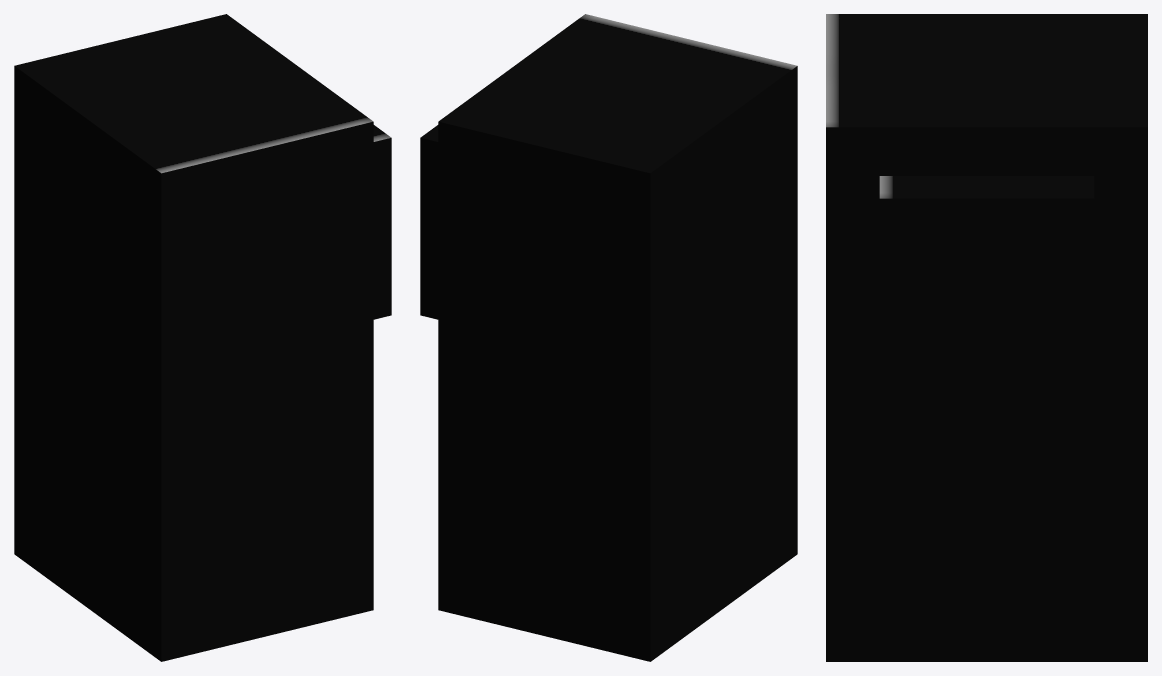
Rendered from solar_panel_base.obj.
3 renders of one model, left to right at view 1: azimuth 30°, elevation 25°; view 2: azimuth 150°, elevation 25°; view 3: azimuth 270°, elevation 25°, orthographic. The views are drawn at different scales.
Visible parts, largest first — view 1: energyinput_, energyinput; view 2: energyinput_, energyinput; view 3: energyinput_, energyinput.
Boxes of the visible parts, bbox=[...] form: energyinput_: bbox=[14, 14, 373, 661]; energyinput: bbox=[373, 125, 391, 319]; energyinput_: bbox=[438, 14, 797, 661]; energyinput: bbox=[420, 125, 438, 319]; energyinput_: bbox=[826, 14, 1147, 661]; energyinput: bbox=[879, 176, 1094, 392].
Bounding box in the file's own units: 0.375 × 0.6875 × 0.375.
